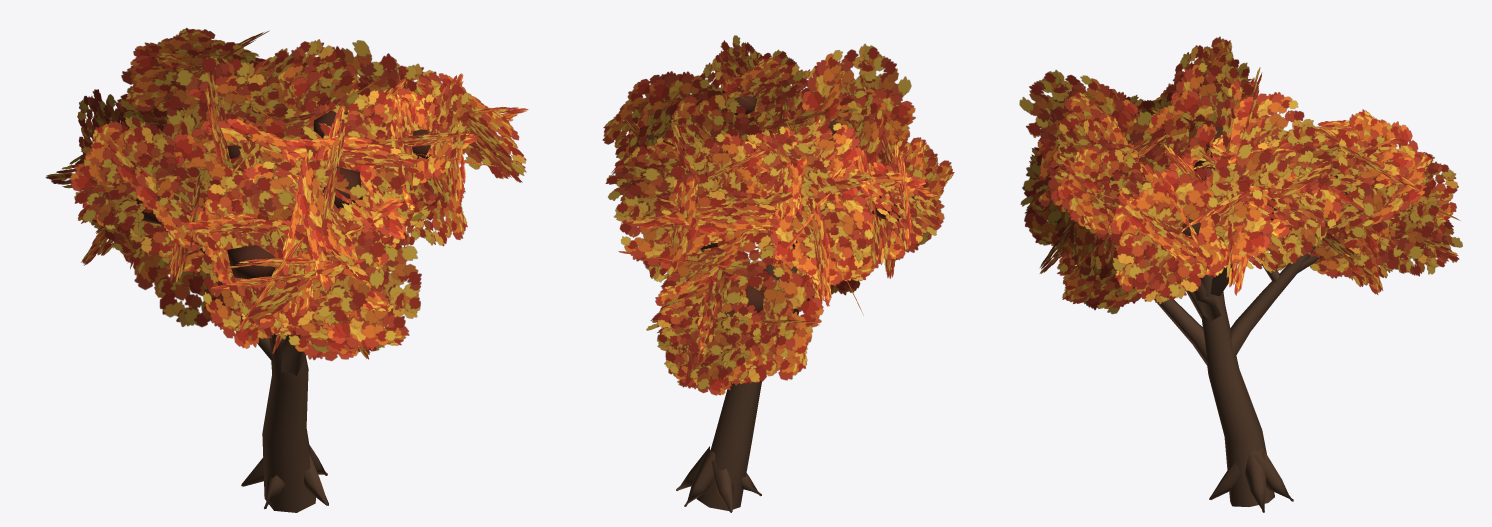
File: nature_maple.glb
The picture shows the model from 3 angles, left to right: view 1: azimuth 30°, elevation 25°; view 2: azimuth 150°, elevation 25°; view 3: azimuth 270°, elevation 25°; orthographic projection. The views are drawn at different scales.
Parts seen in each view (by area): view 1: nature_maple; view 2: nature_maple; view 3: nature_maple.
Part boxes in pixels (x1,y1,x2,y2): nature_maple: (45,28,528,512); nature_maple: (602,35,954,512); nature_maple: (1019,36,1462,512).
Size of the model in its own units: 5.97 by 6.62 by 6.63.
3 materials, 1 textured.
